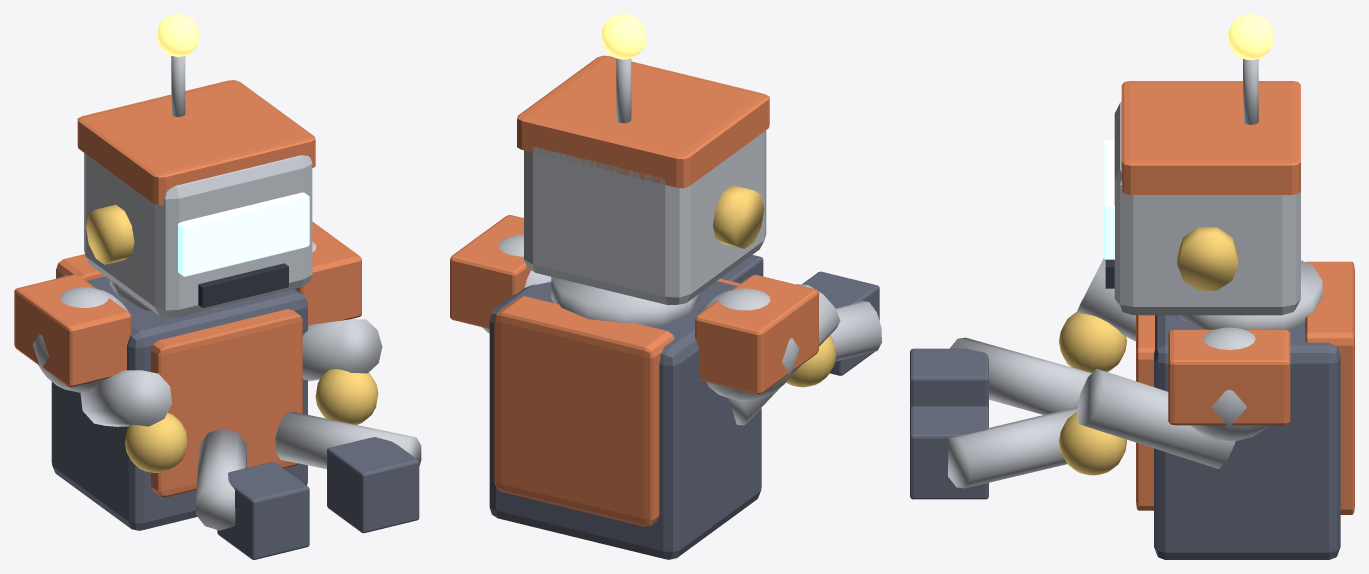
The model's file is driver_robot_r28_backup.glb.
The picture shows the model from 3 angles, left to right: view 1: azimuth 30°, elevation 25°; view 2: azimuth 150°, elevation 25°; view 3: azimuth 270°, elevation 25°; orthographic projection. The views are drawn at different scales.
Visible parts, largest first — view 1: D_Chest, D_HelmTop, D_Head, D_Torso, D_Pad, D_Glove.001, D_Visor, D_Glove, D_Pad.001, D_Upper, D_Lower.001, D_Upper.001 (+9 smaller); view 2: D_Back, D_Head, D_Torso, D_HelmTop, D_Pad, D_Pad.001, D_Neck, D_Ear, D_Lower, D_Glove, D_Shoulder, D_Bulb (+5 smaller); view 3: D_Torso, D_Head, D_HelmTop, D_Pad.001, D_Upper.001, D_Lower.001, D_Back, D_Glove.001, D_Lower, D_Glove, D_Ear.001, D_Elbow (+8 smaller).
Part boxes in pixels (x1,y1,x2,y2): D_Chest: (151,309,302,497); D_HelmTop: (77,80,315,204); D_Head: (84,153,312,317); D_Torso: (51,274,307,530); D_Pad: (14,274,130,387); D_Glove.001: (327,437,419,533); D_Visor: (178,192,309,276); D_Glove: (217,461,309,559); D_Pad.001: (295,221,361,325); D_Upper: (80,370,172,426); D_Lower.001: (275,412,421,469); D_Upper.001: (302,319,382,381); D_Back: (494,296,674,526); D_Head: (524,130,766,305); D_Torso: (489,281,761,559); D_HelmTop: (517,55,769,188); D_Pad: (695,274,818,394); D_Pad.001: (450,215,530,328); D_Neck: (551,277,699,326); D_Ear: (713,185,764,248); D_Lower: (830,301,881,361); D_Glove: (802,271,879,375); D_Shoulder: (697,288,799,400); D_Bulb: (601,14,646,59); D_Torso: (1154,315,1340,559); D_Head: (1114,101,1300,315); D_HelmTop: (1121,81,1300,194); D_Pad.001: (1168,329,1290,425); D_Upper.001: (1076,368,1235,468); D_Lower.001: (948,407,1077,488); D_Back: (1305,261,1354,514); D_Glove.001: (910,406,988,499); D_Lower: (950,337,1091,414); D_Glove: (910,348,988,408); D_Ear.001: (1177,227,1238,290); D_Elbow: (1059,311,1126,372).
Bounding box in the file's own units: 1.04 × 1.54 × 1.24.
